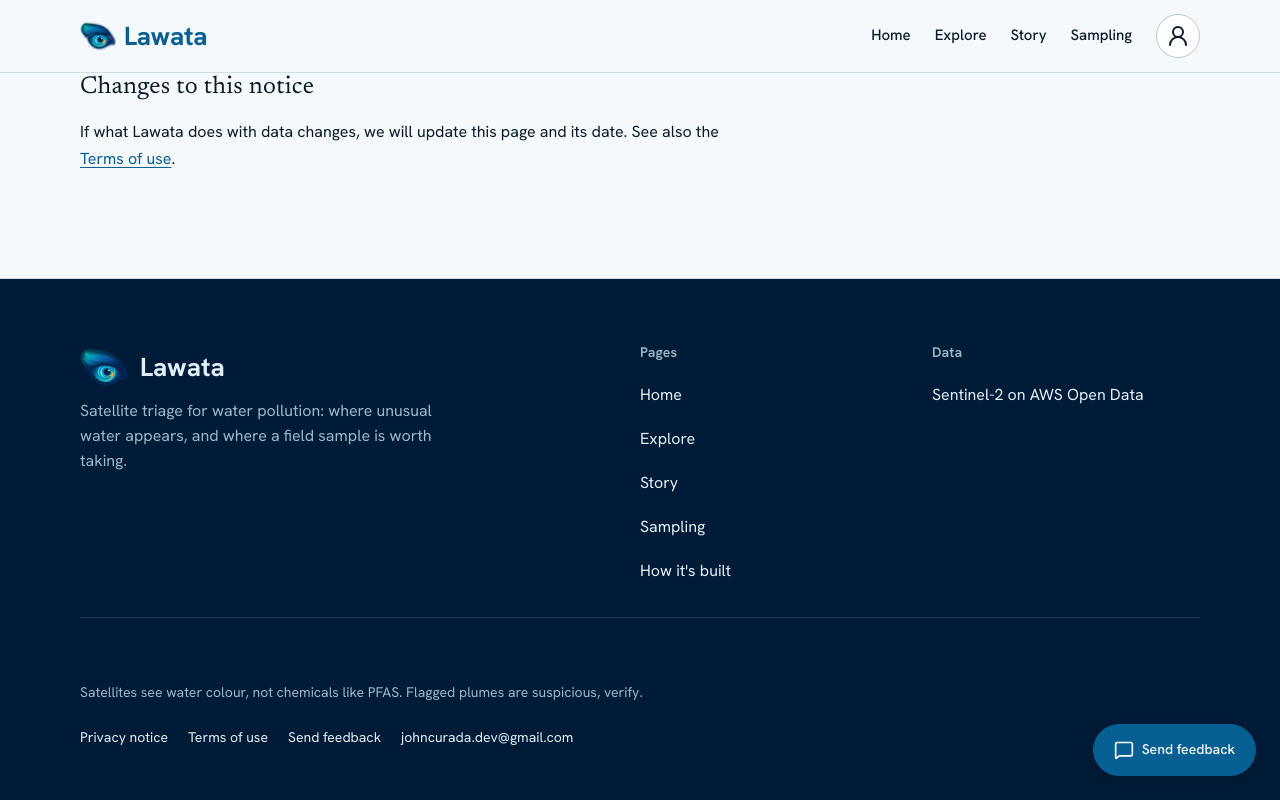
Test: feedback › shows the floating button off the map and opens the form from the footer link
The image size is (1280, 800).
(page scrolled)
Click the button "Send feedback" below "How it's built": click(335, 738) [288, 716, 381, 760]
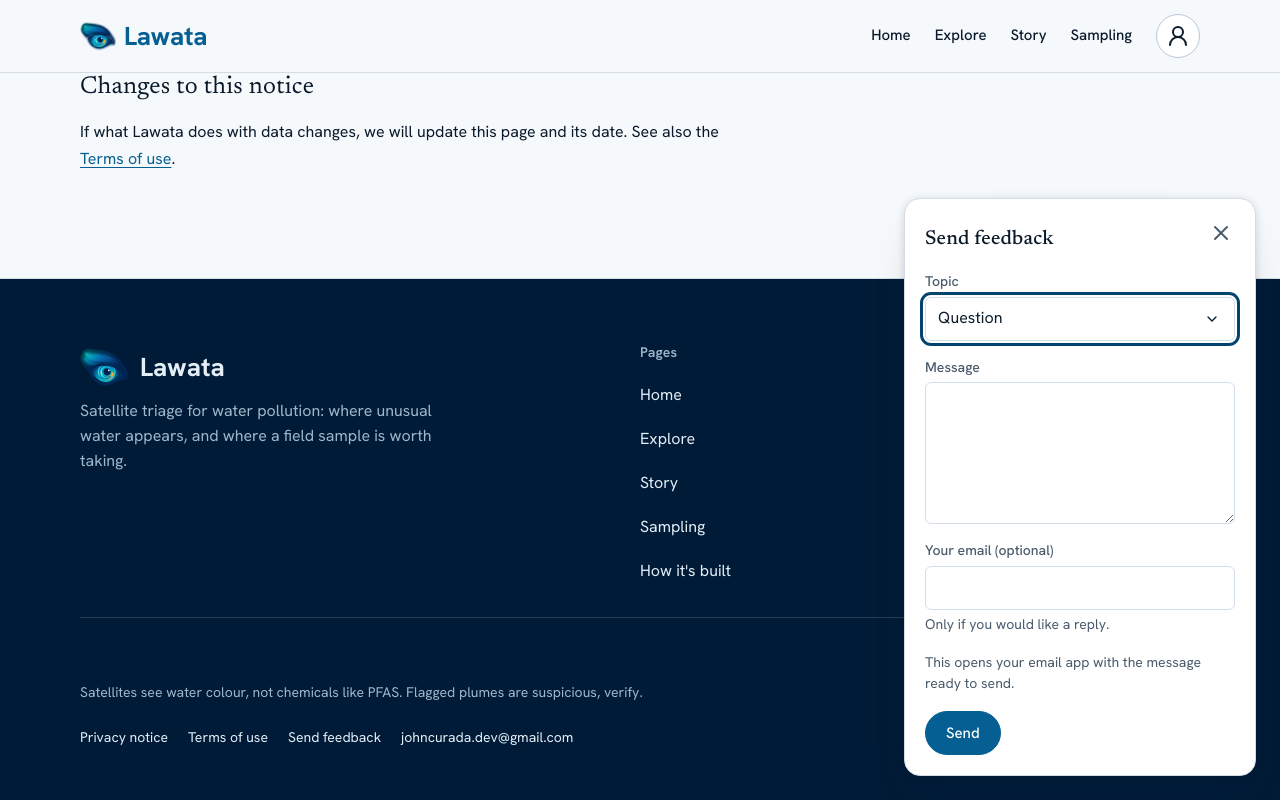
Expected: the dialog "Send feedback" is shown, [904, 198, 1256, 776]
Press Escape
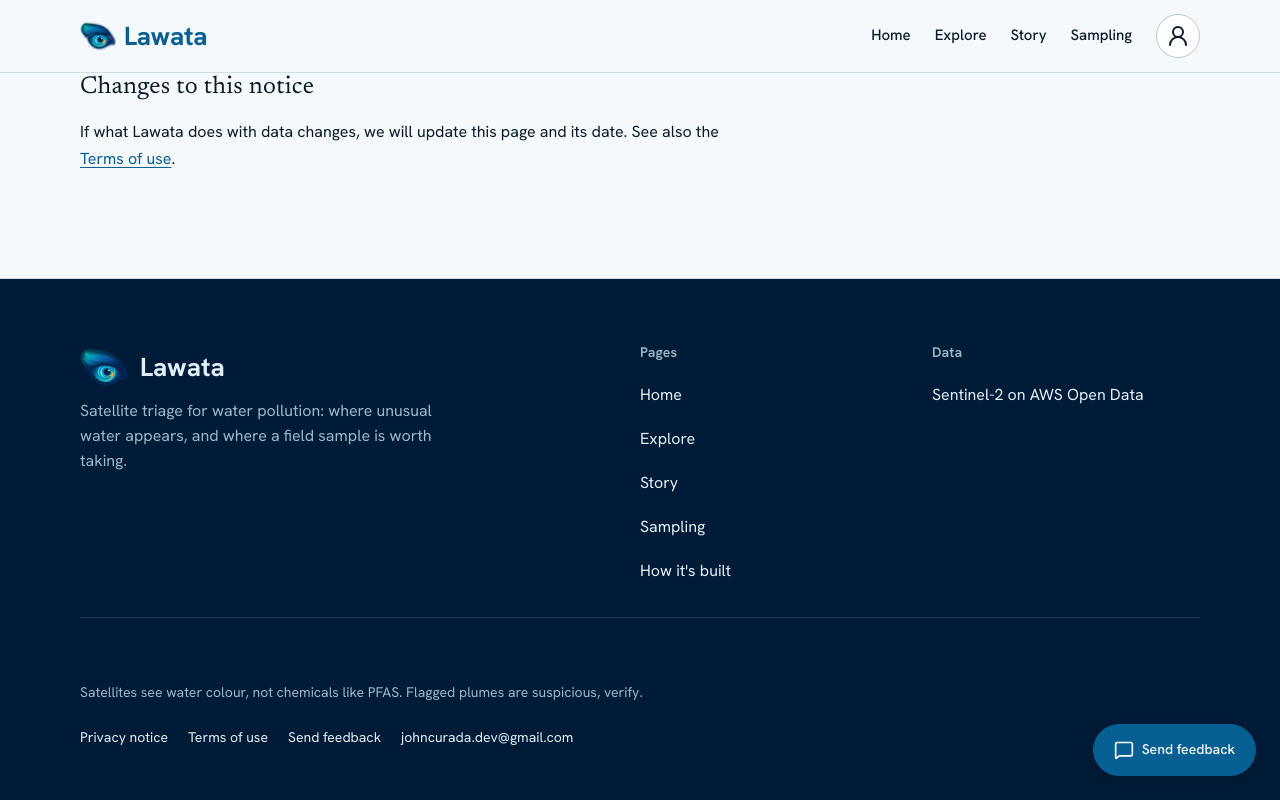
Expected: the dialog is gone
